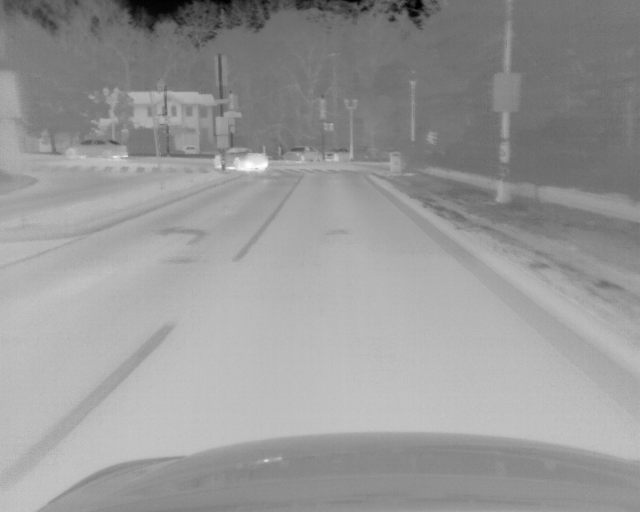car: (214, 144, 269, 174), (61, 138, 128, 161), (281, 146, 323, 163), (325, 146, 350, 162)
